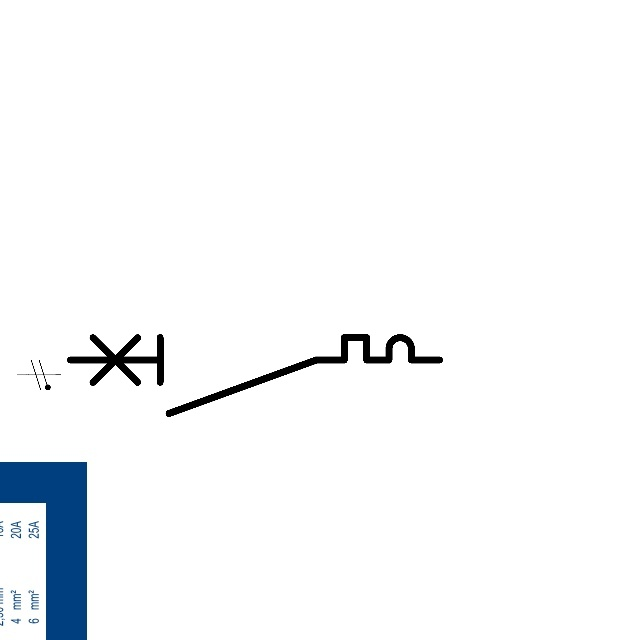interruptor_termomagnetico: (60, 328, 448, 423)
